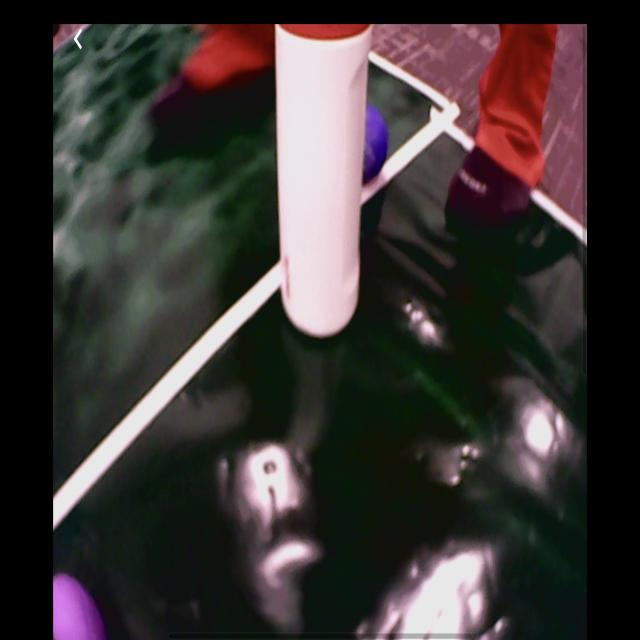ball: (55, 569, 109, 639), (363, 105, 388, 187)
